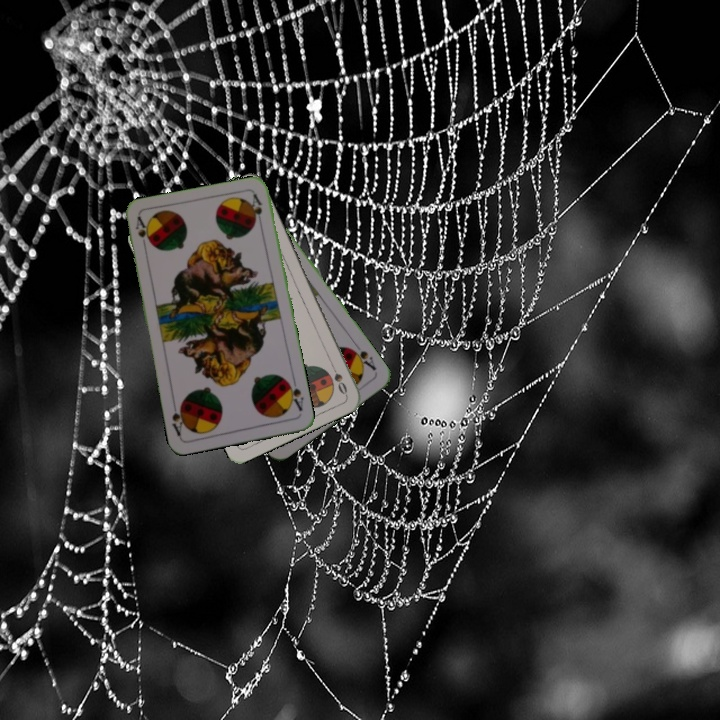SA: (346, 344, 379, 373), (282, 375, 306, 413), (131, 213, 153, 253)
SO: (326, 359, 350, 397)
